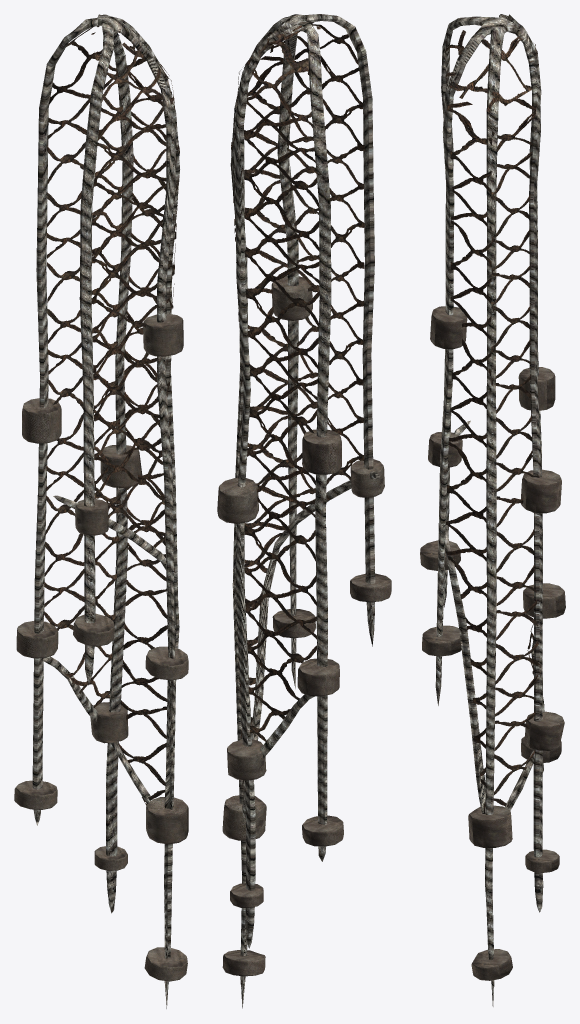
Rendered from fishnet_hanging.FBX.
3 renders of one model, left to right at view 1: azimuth 30°, elevation 25°; view 2: azimuth 150°, elevation 25°; view 3: azimuth 270°, elevation 25°, orthographic. The views are drawn at different scales.
Parts seen in each view (by area): view 1: fishnet_hanging; view 2: fishnet_hanging; view 3: fishnet_hanging.
Boxes of the visible parts, x1,y1,x2,y2 form: fishnet_hanging: [14, 14, 188, 1008]; fishnet_hanging: [217, 14, 391, 1008]; fishnet_hanging: [420, 14, 565, 1006].
Size of the model in its own units: 12.6 by 11.59 by 84.41.
